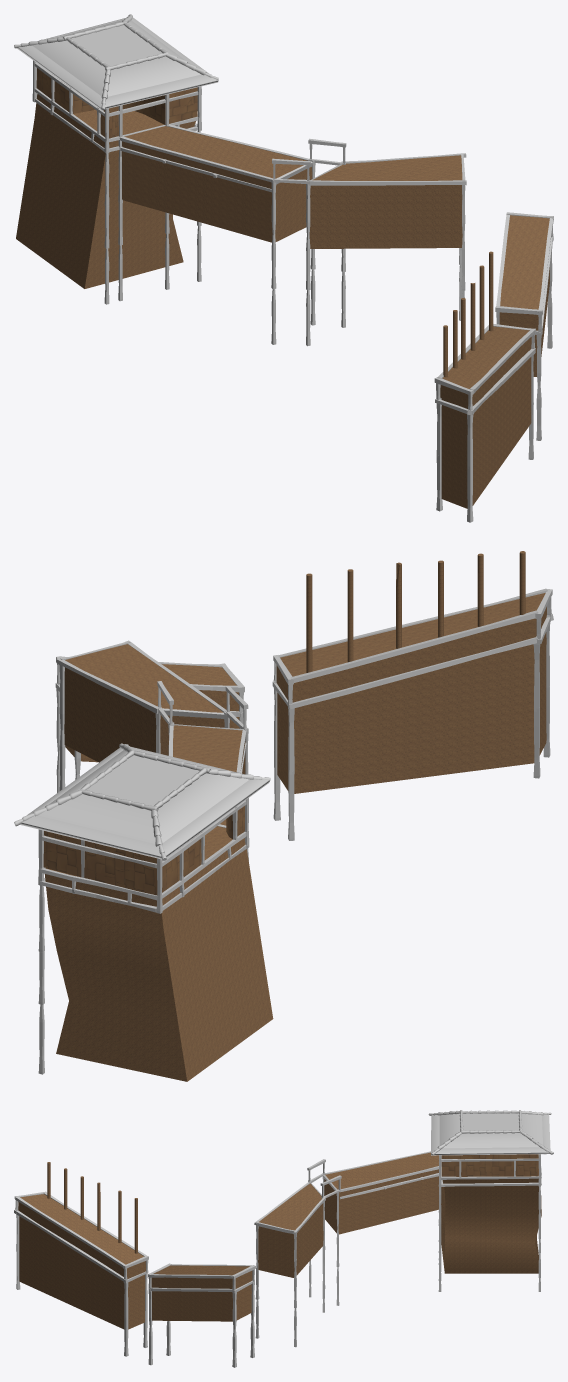
The picture shows the model from 3 angles, top to bottom: view 1: azimuth 30°, elevation 25°; view 2: azimuth 150°, elevation 25°; view 3: azimuth 270°, elevation 25°; orthographic projection. The views are drawn at different scales.
Parts seen in each view (by area): view 1: Floor_1, Platform_Floor_1, Platform_Floor_2, Floor_1_1, polySurface1279, Platform_3, pCube2, polySurface997, polySurface1138, polySurface1004, polySurface999, polySurface995 (+2 smaller); view 2: Floor_1, Floor_1_1, polySurface1279, Platform_Floor_2, pCube2, Platform_Floor_1, polySurface1132, Platform_3, polySurface1136, polySurface1155, polySurface997, polySurface1133 (+7 smaller); view 3: Floor_1_1, Floor_1, Platform_Floor_1, Platform_3, polySurface1279, Platform_Floor_2, pCube2, polySurface1137, polySurface1133, polySurface997, polySurface1021, polySurface1002 (+8 smaller).
Part boxes in pixels (x1,y1,x2,y2): Floor_1: [16, 94, 195, 288]; Platform_Floor_1: [121, 126, 312, 242]; Platform_Floor_2: [309, 155, 462, 248]; Floor_1_1: [440, 326, 531, 508]; polySurface1279: [17, 17, 218, 110]; Platform_3: [499, 215, 549, 376]; pCube2: [36, 68, 197, 138]; polySurface997: [272, 138, 346, 184]; polySurface1138: [308, 180, 466, 185]; polySurface1004: [119, 136, 272, 181]; polySurface999: [306, 184, 310, 346]; polySurface995: [271, 179, 276, 344]; Floor_1: [44, 826, 273, 1081]; Floor_1_1: [276, 593, 546, 793]; polySurface1279: [20, 747, 269, 859]; Platform_Floor_2: [64, 644, 224, 762]; pCube2: [43, 806, 244, 895]; Platform_Floor_1: [173, 725, 245, 825]; polySurface1132: [290, 610, 538, 682]; Platform_3: [65, 664, 239, 762]; polySurface1136: [289, 636, 537, 708]; polySurface1155: [288, 707, 294, 840]; polySurface997: [157, 681, 248, 731]; polySurface1133: [278, 588, 547, 657]; Floor_1_1: [18, 1194, 145, 1329]; Floor_1: [441, 1169, 541, 1273]; Platform_Floor_1: [324, 1152, 441, 1234]; Platform_3: [151, 1265, 252, 1321]; polySurface1279: [431, 1113, 550, 1155]; Platform_Floor_2: [258, 1183, 323, 1277]; pCube2: [441, 1154, 538, 1176]; polySurface1137: [14, 1209, 127, 1282]; polySurface1133: [15, 1196, 125, 1267]; polySurface997: [307, 1159, 341, 1198]; polySurface1021: [441, 1182, 538, 1186]; polySurface1002: [340, 1166, 438, 1192].
Size of the model in its own units: 10733 by 8338 by 22332.
